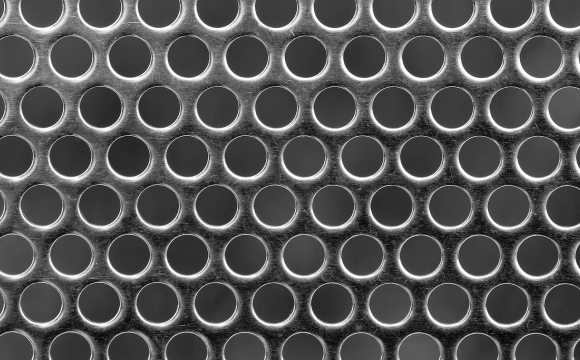Hole: (247, 182, 304, 234), (390, 232, 449, 282), (449, 233, 509, 282), (45, 29, 98, 83), (220, 31, 275, 83), (455, 31, 510, 83), (507, 233, 564, 283), (105, 31, 158, 84), (279, 30, 332, 83), (277, 232, 332, 283), (161, 31, 215, 82), (367, 83, 421, 134), (219, 231, 273, 282), (396, 33, 452, 82), (482, 183, 538, 232), (364, 183, 421, 231), (338, 31, 390, 83), (515, 31, 568, 82), (308, 182, 361, 233), (17, 180, 70, 231), (103, 231, 157, 281), (131, 182, 186, 231), (73, 182, 128, 231), (426, 83, 478, 134), (337, 133, 390, 183), (15, 279, 68, 329), (220, 133, 274, 182), (485, 83, 537, 133), (424, 182, 476, 232), (45, 230, 97, 280), (336, 232, 388, 282), (306, 280, 358, 330), (132, 281, 184, 331), (191, 183, 244, 232), (73, 280, 126, 329), (45, 133, 99, 181), (454, 134, 508, 182), (481, 282, 535, 330), (162, 131, 212, 182), (397, 133, 448, 183), (515, 132, 565, 183), (424, 280, 475, 330), (103, 133, 155, 182), (162, 231, 214, 280), (191, 280, 241, 330), (311, 83, 361, 132), (17, 82, 66, 132), (279, 133, 329, 182), (251, 85, 302, 132), (192, 84, 243, 131), (364, 281, 416, 327), (75, 83, 124, 131), (249, 280, 298, 328), (135, 84, 185, 131)
